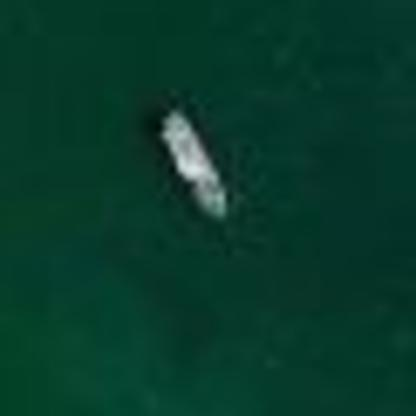ship: (146, 106, 240, 225)
